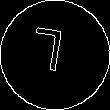L_S: (36, 28, 74, 82)
